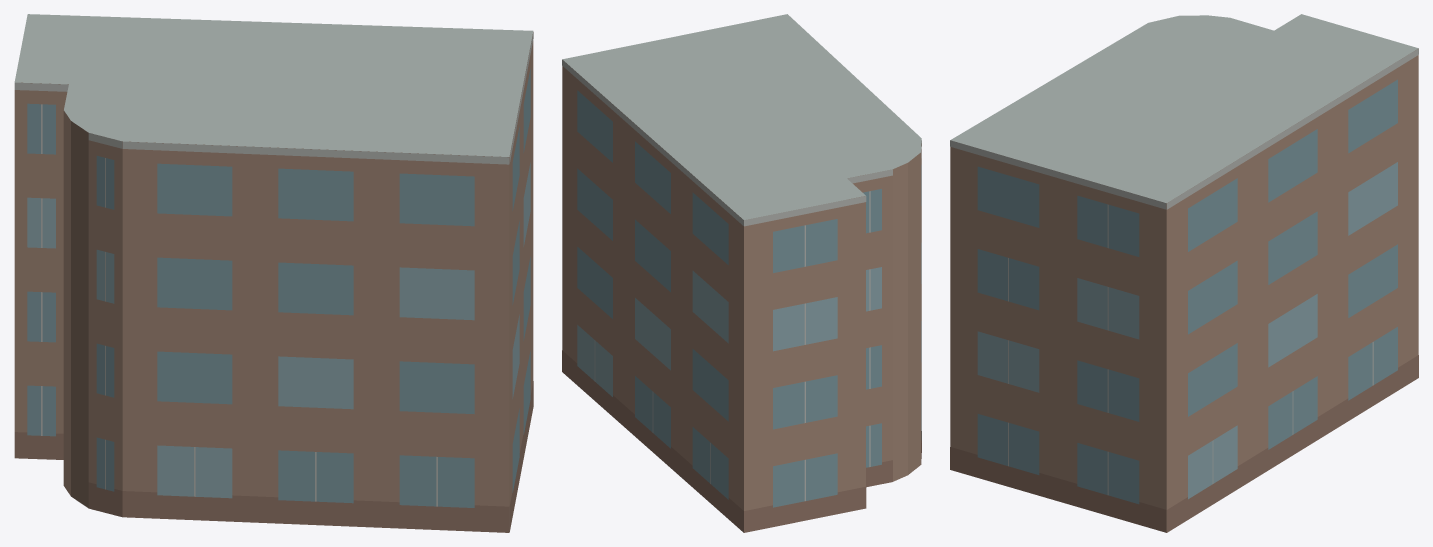
Rendered from survey-upis-32764098.glb.
The picture shows the model from 3 angles, left to right: view 1: azimuth 30°, elevation 25°; view 2: azimuth 150°, elevation 25°; view 3: azimuth 270°, elevation 25°; orthographic projection. The views are drawn at different scales.
Visible parts, largest first — view 1: survey-upis-32764098.tmp; view 2: survey-upis-32764098.tmp; view 3: survey-upis-32764098.tmp.
Part boxes in pixels (x1,y1,x2,y2): survey-upis-32764098.tmp: (14,14,533,532); survey-upis-32764098.tmp: (562,14,921,532); survey-upis-32764098.tmp: (950,14,1418,532).
Bounding box in the file's own units: 15.08 × 12.24 × 15.78.
